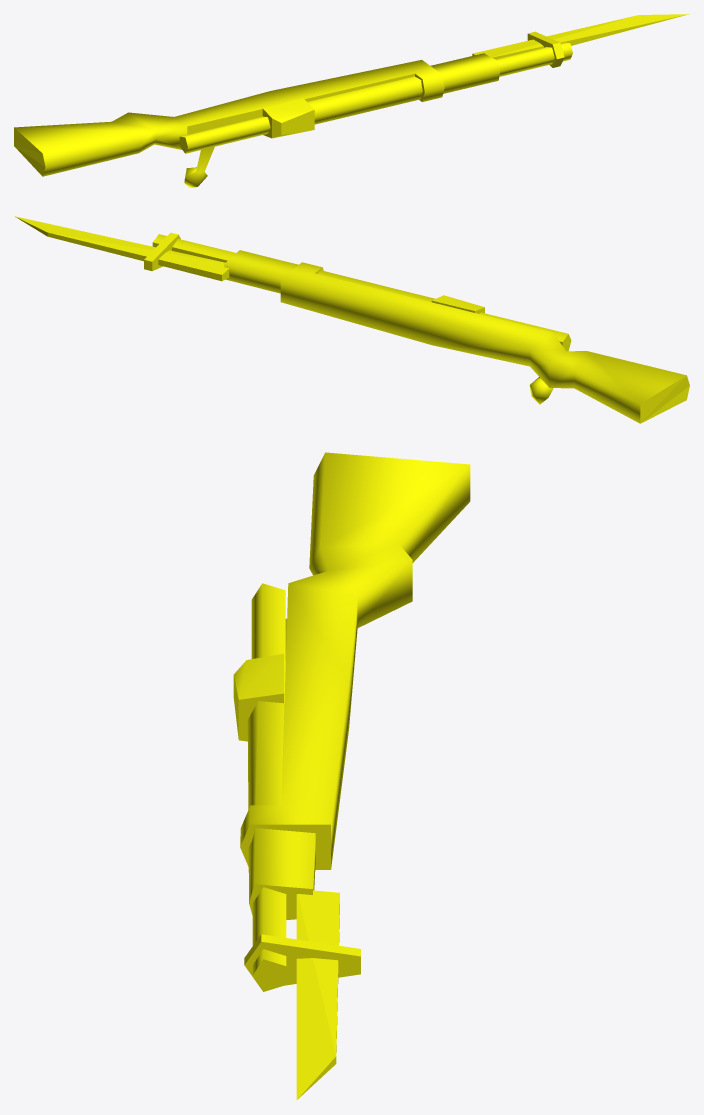
The model's file is weapon_98k_bayonet.glb.
3 renders of one model, top to bottom at view 1: azimuth 30°, elevation 25°; view 2: azimuth 150°, elevation 25°; view 3: azimuth 270°, elevation 25°, orthographic. The views are drawn at different scales.
Parts seen in each view (by area): view 1: weapon_98k_bayonet; view 2: weapon_98k_bayonet; view 3: weapon_98k_bayonet.
Part boxes in pixels (x1=…): weapon_98k_bayonet: x1=14, y1=14, x2=689, y2=187; weapon_98k_bayonet: x1=14, y1=216, x2=689, y2=423; weapon_98k_bayonet: x1=233, y1=452, x2=470, y2=1099.
Size of the model in its own units: 2.54 by 0.2563 by 0.4065.
Materials: 1 (1 with a texture image).
